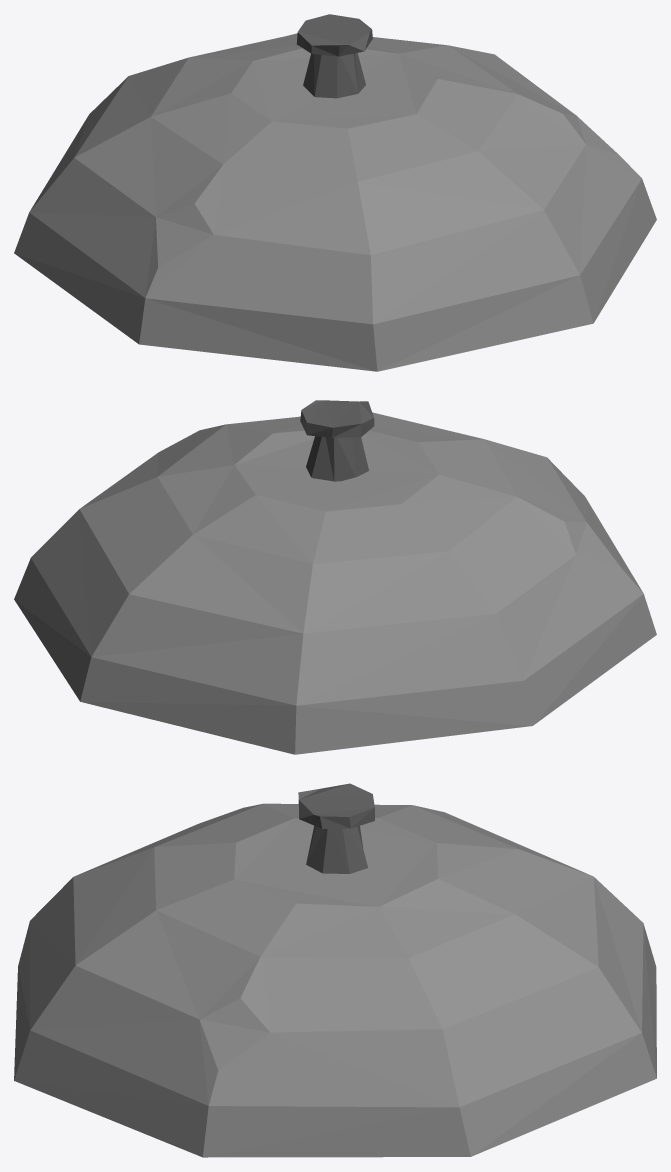
Rendered from SFI_Saucepan_Lid_001.fbx.
3 views of the same model, one above another, from view 1: azimuth 30°, elevation 25°; view 2: azimuth 150°, elevation 25°; view 3: azimuth 270°, elevation 25° (orthographic). The views are drawn at different scales.
Visible parts, largest first — view 1: SFI_Saucepan_Lid_001; view 2: SFI_Saucepan_Lid_001; view 3: SFI_Saucepan_Lid_001.
Part boxes in pixels (x1,y1,x2,y2): SFI_Saucepan_Lid_001: (14, 14, 656, 371); SFI_Saucepan_Lid_001: (14, 400, 656, 754); SFI_Saucepan_Lid_001: (14, 783, 656, 1157).
Bounding box in the file's own units: 36.3 × 14.05 × 36.34.
